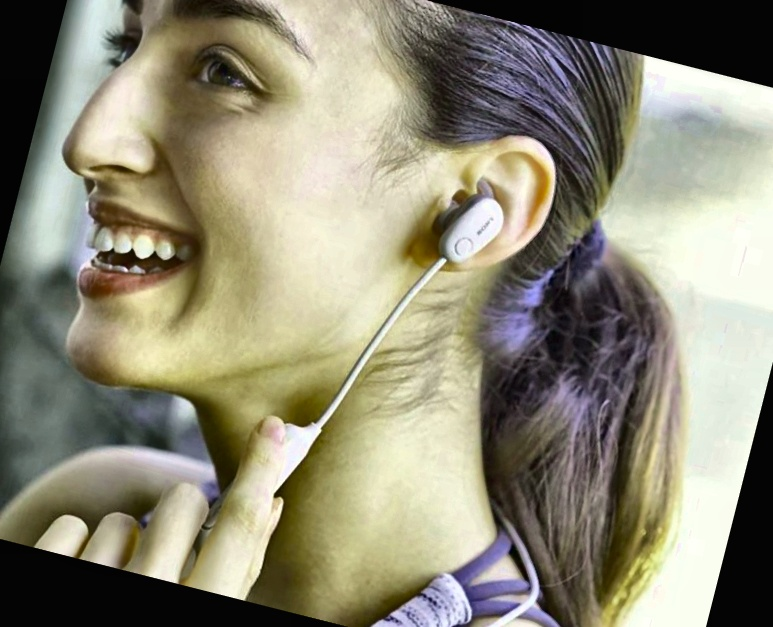earphone: (408, 116, 567, 295)
